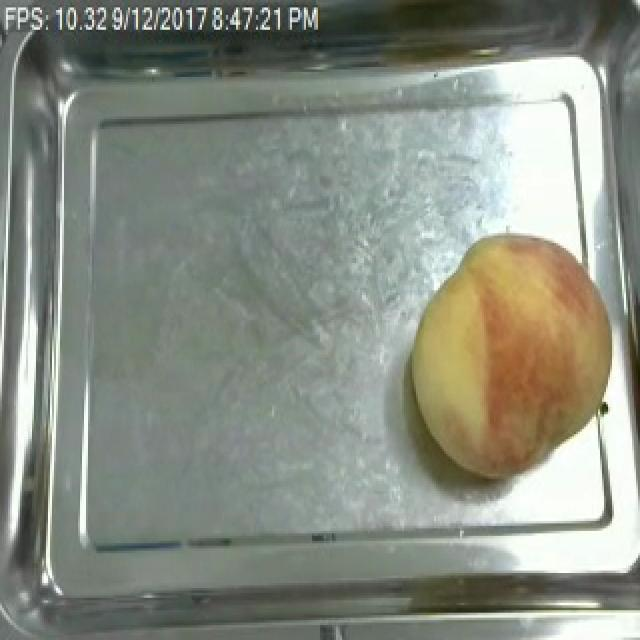Fruit: (400, 223, 630, 486)
